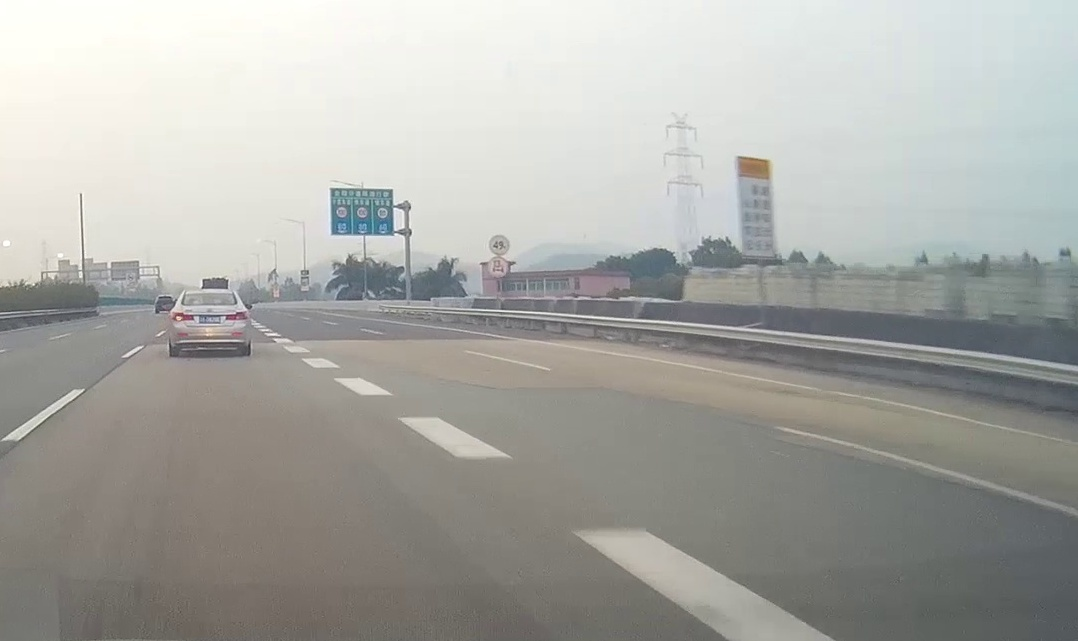L_light: (172, 312, 194, 322)
R_light: (225, 311, 248, 320)
T_light: (204, 292, 215, 296)
day-left: (171, 289, 248, 357)
